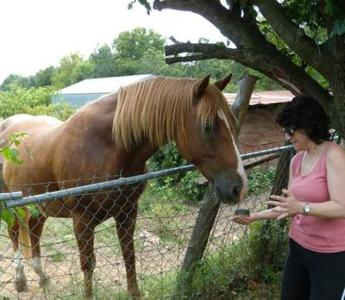person: (233, 97, 344, 298)
